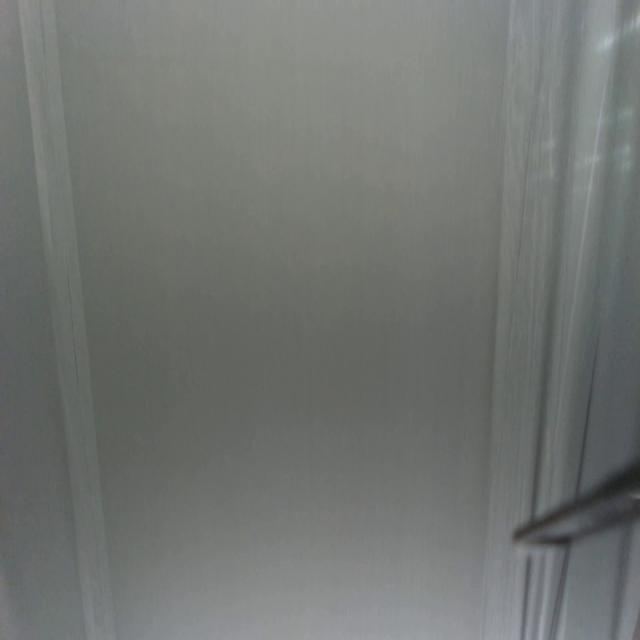crease: (16, 0, 116, 640), (546, 82, 610, 505), (571, 325, 601, 498), (549, 550, 574, 640), (517, 553, 535, 640)
